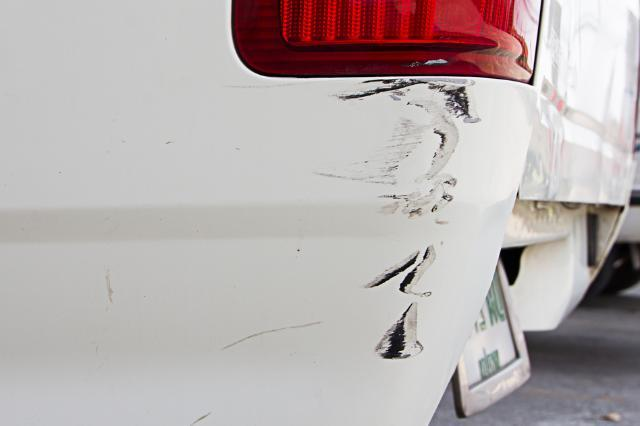Bumper: (271, 74, 534, 415)
